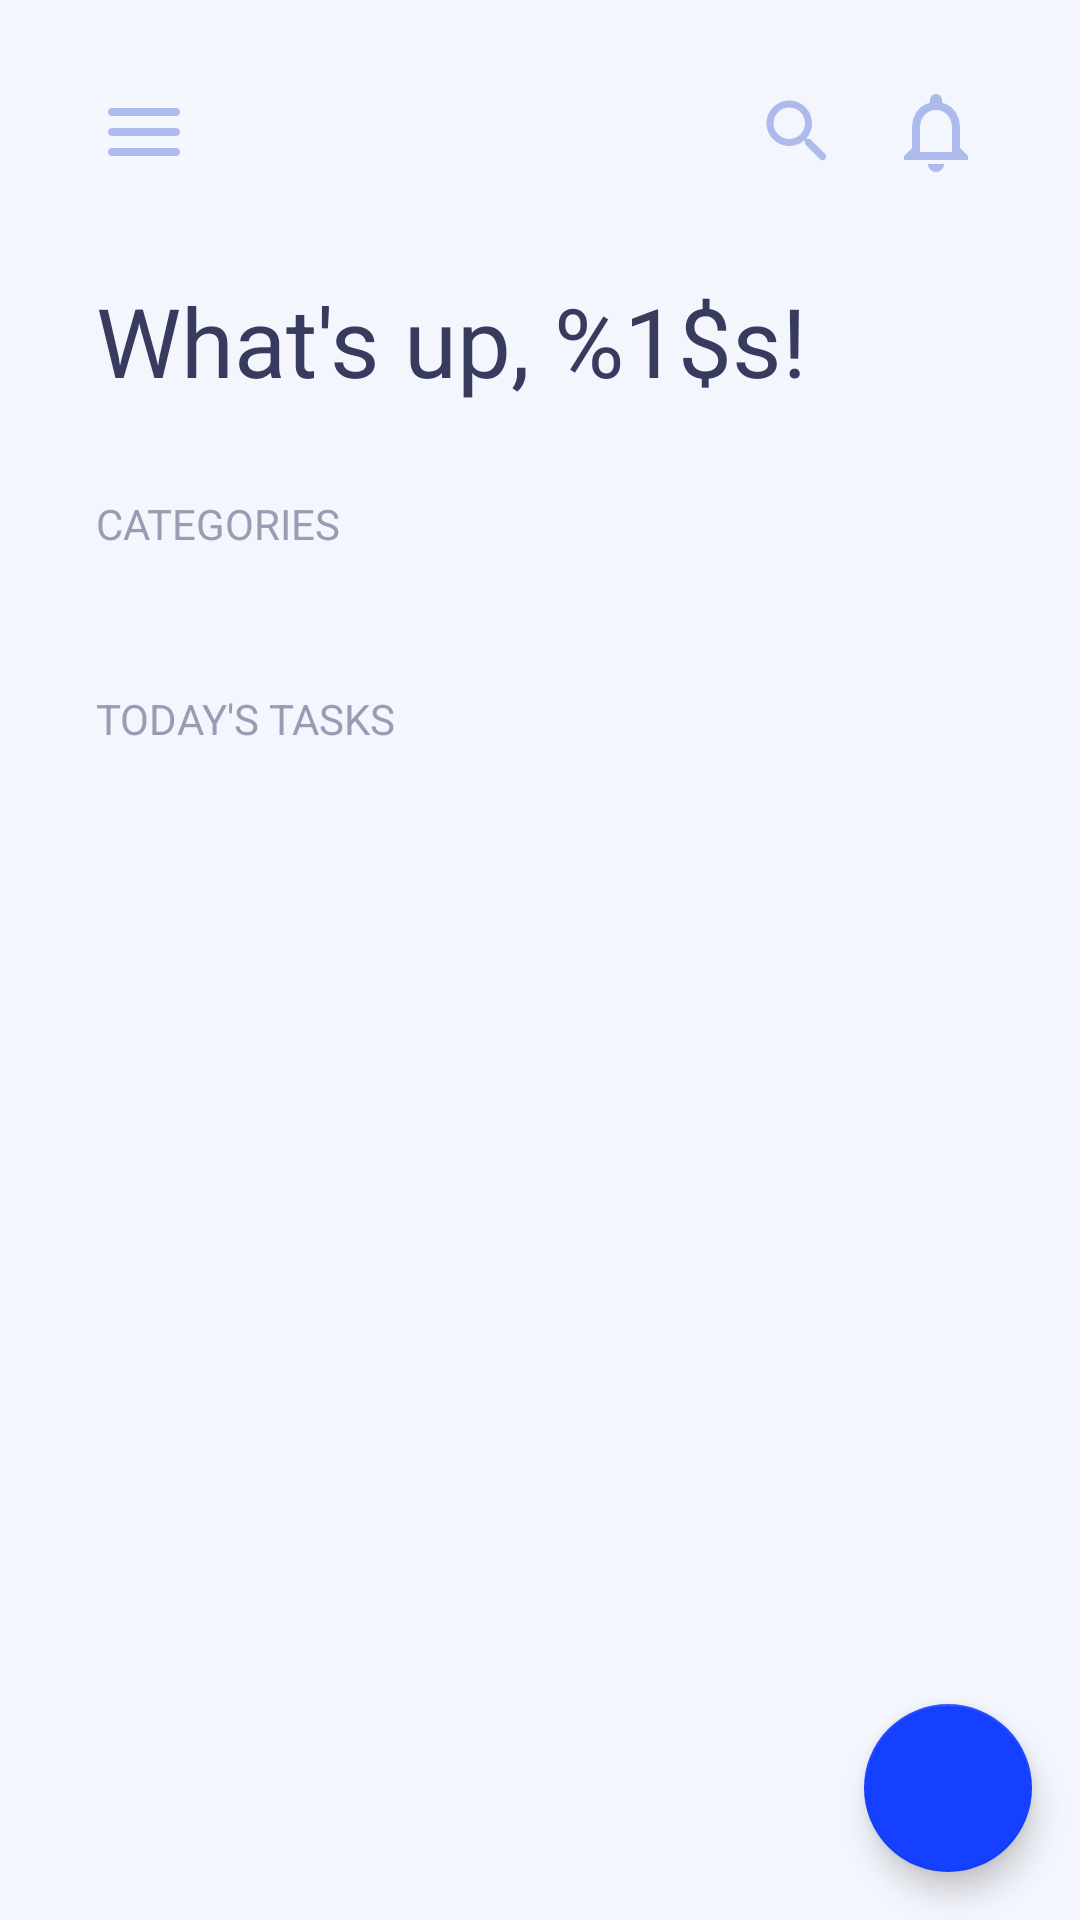

Locate icon controls on the screen. Image size 1080 × 1920, boxes as (x1, y1, x2, y2).
menu: (108, 108, 180, 156)
notifications: (904, 94, 968, 172)
search: (766, 100, 826, 160)
